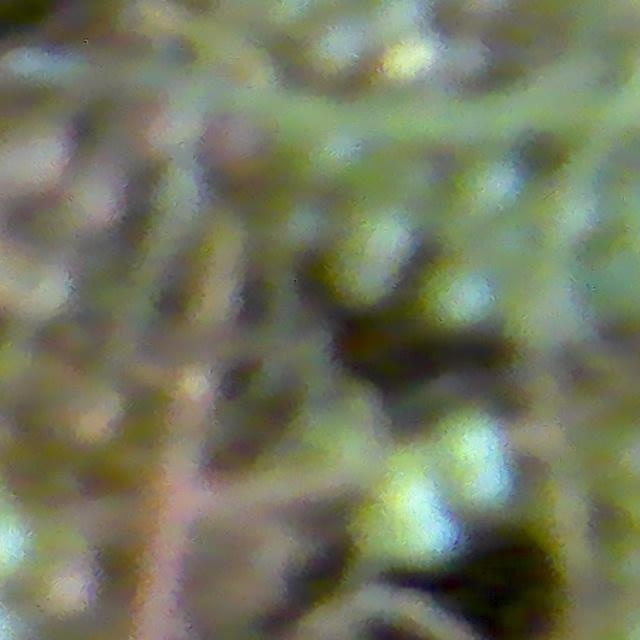SeaGrape: (332, 201, 415, 293), (418, 258, 497, 334), (451, 155, 523, 223)
